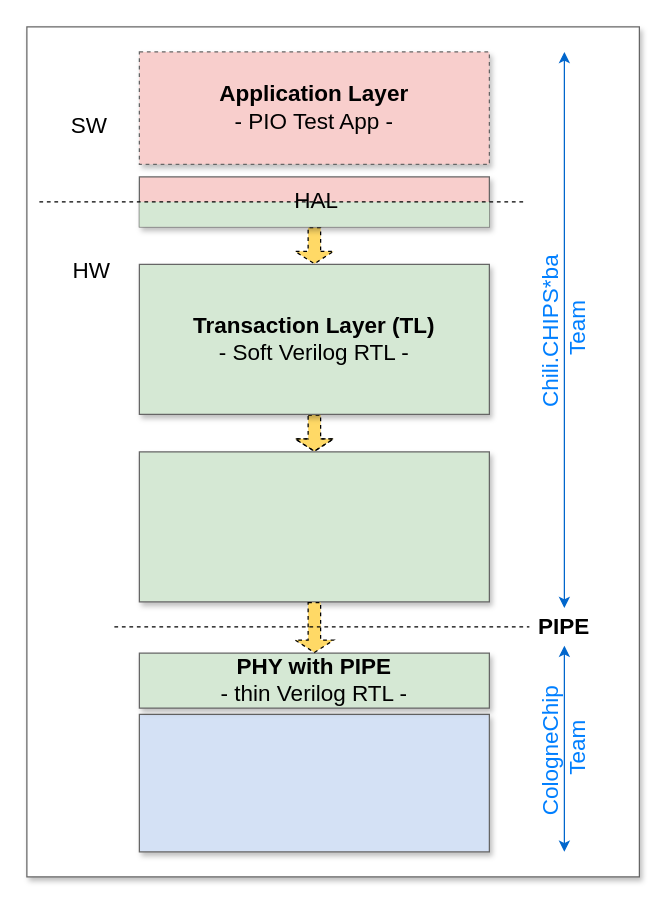
Some shapes in this 669 by 908 pixel diagram are drawn without their labels. The centre of each missing label's shape, as x and y in pixels:
"Data Link Layer (DLL) - Soft Verilog RTL -" goes at point 315,528.
"GateMate SerDes - mixed-signal HM - - x1 - 2.5Gbps (Gen1) - 5.0Gbps (Gen2)" goes at point 315,784.
